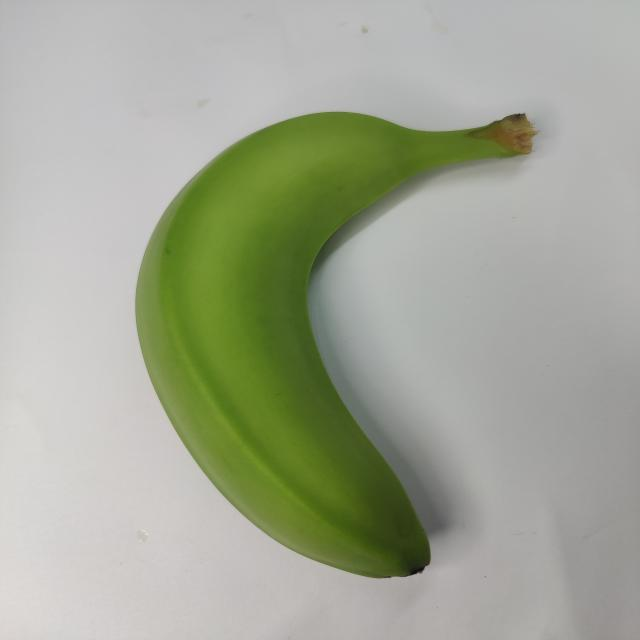raw: (94, 80, 561, 590)
